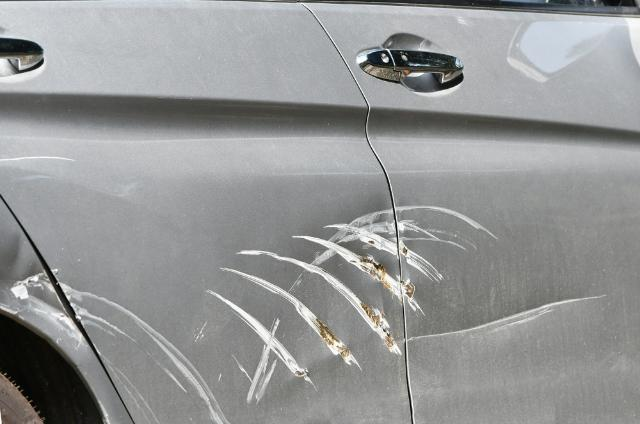dent: (0, 232, 66, 328)
scratch: (198, 205, 404, 408), (394, 204, 608, 346), (58, 282, 232, 424)
